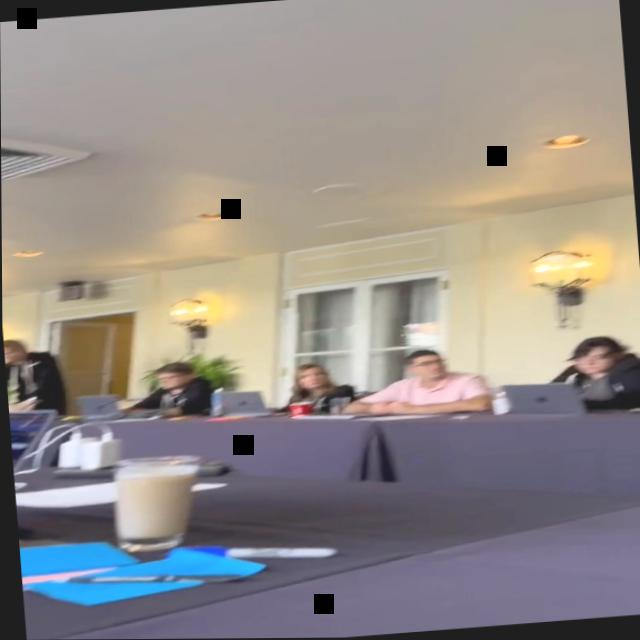NO-Mask: (570, 345, 615, 378), (414, 353, 445, 380), (297, 368, 326, 390), (156, 371, 181, 391), (3, 344, 22, 361)
